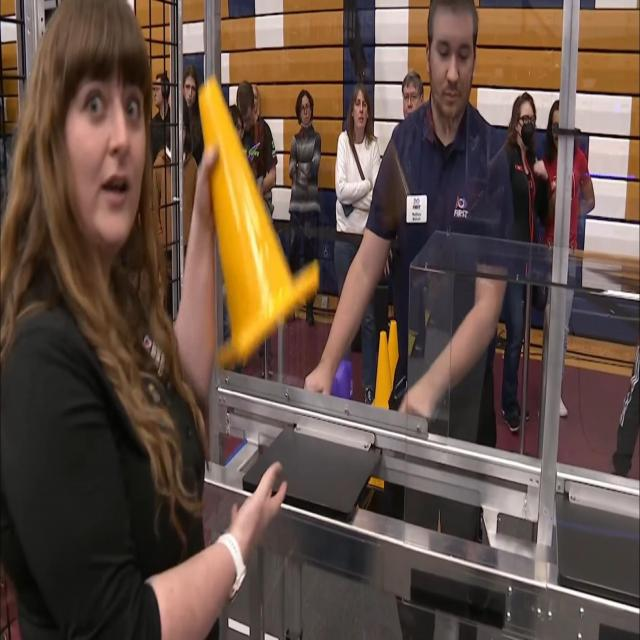frc_cone: (191, 77, 318, 365), (370, 331, 392, 418), (387, 319, 400, 392)
frc_cube: (333, 356, 352, 400)
